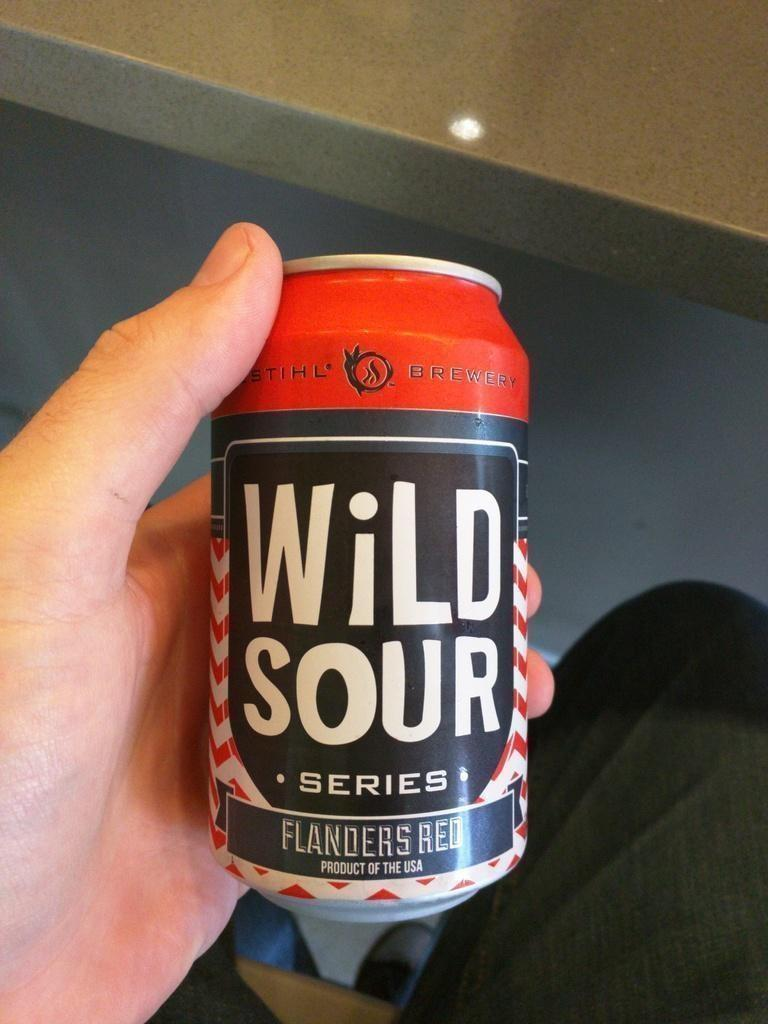tin can: (211, 255, 533, 923)
